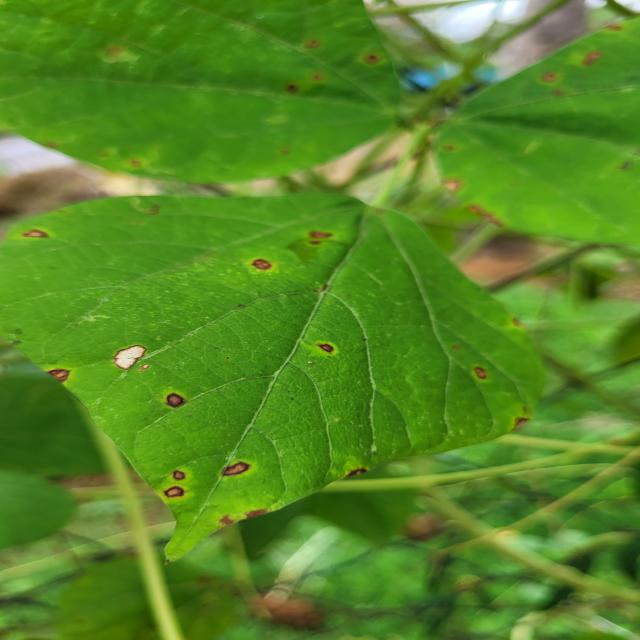Dolicos bean_cercospora leaf spot: (0, 192, 542, 562), (0, 0, 421, 199), (435, 0, 640, 243)
